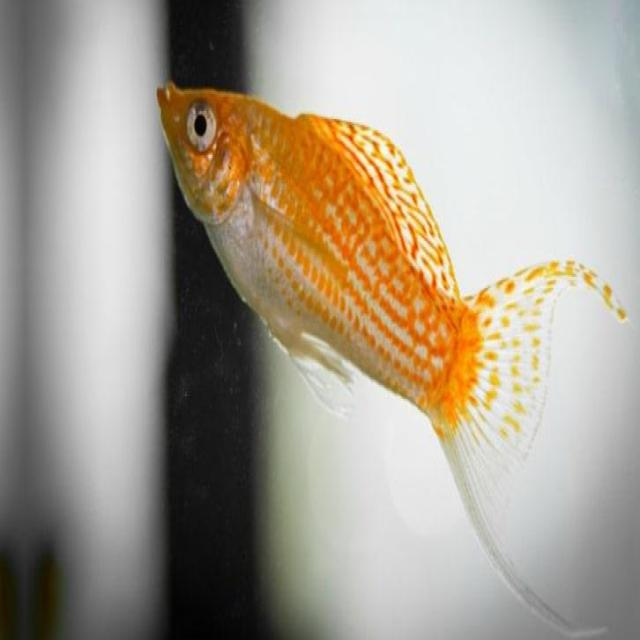PlatyFish: (151, 69, 640, 640)
